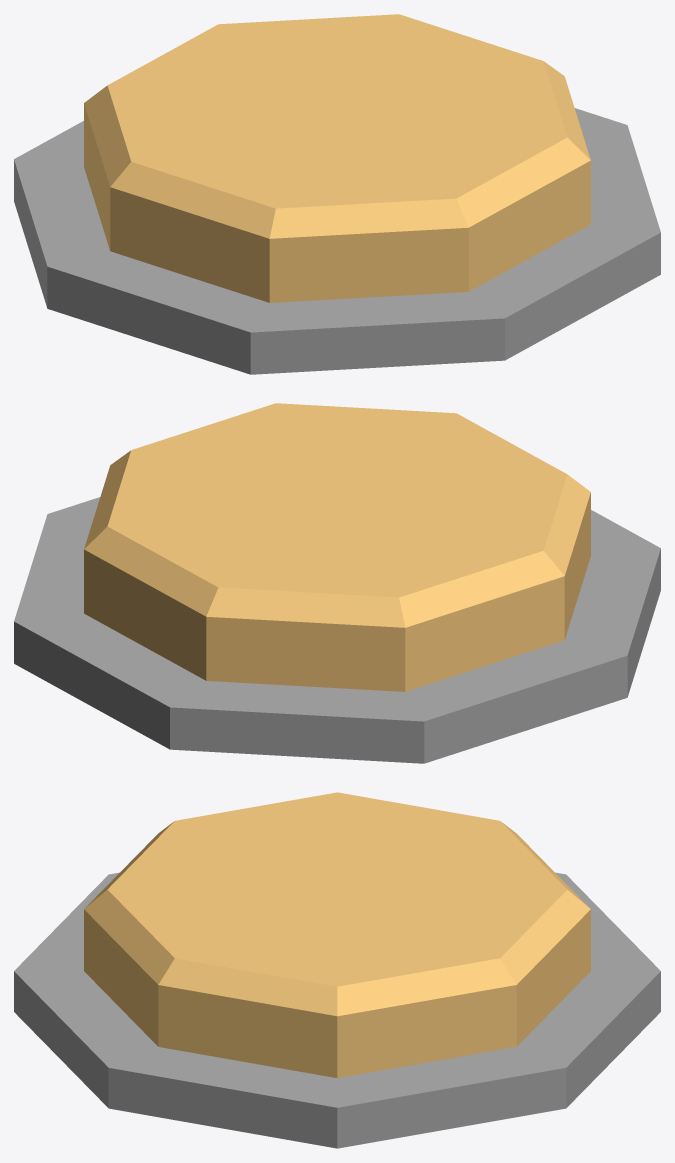
The model's file is Button.fbx.
3 views of the same model, one above another, from view 1: azimuth 30°, elevation 25°; view 2: azimuth 150°, elevation 25°; view 3: azimuth 270°, elevation 25° (orthographic). The views are drawn at different scales.
Parts seen in each view (by area): view 1: Cylinder, Base; view 2: Cylinder, Base; view 3: Cylinder, Base.
Boxes of the visible parts, x1,y1,x2,y2 form: Cylinder: [84, 14, 590, 302]; Base: [14, 108, 660, 374]; Cylinder: [84, 403, 590, 691]; Base: [14, 497, 660, 763]; Cylinder: [84, 792, 590, 1078]; Base: [14, 872, 660, 1148].
Size of the model in its own units: 160 by 33.39 by 160.
